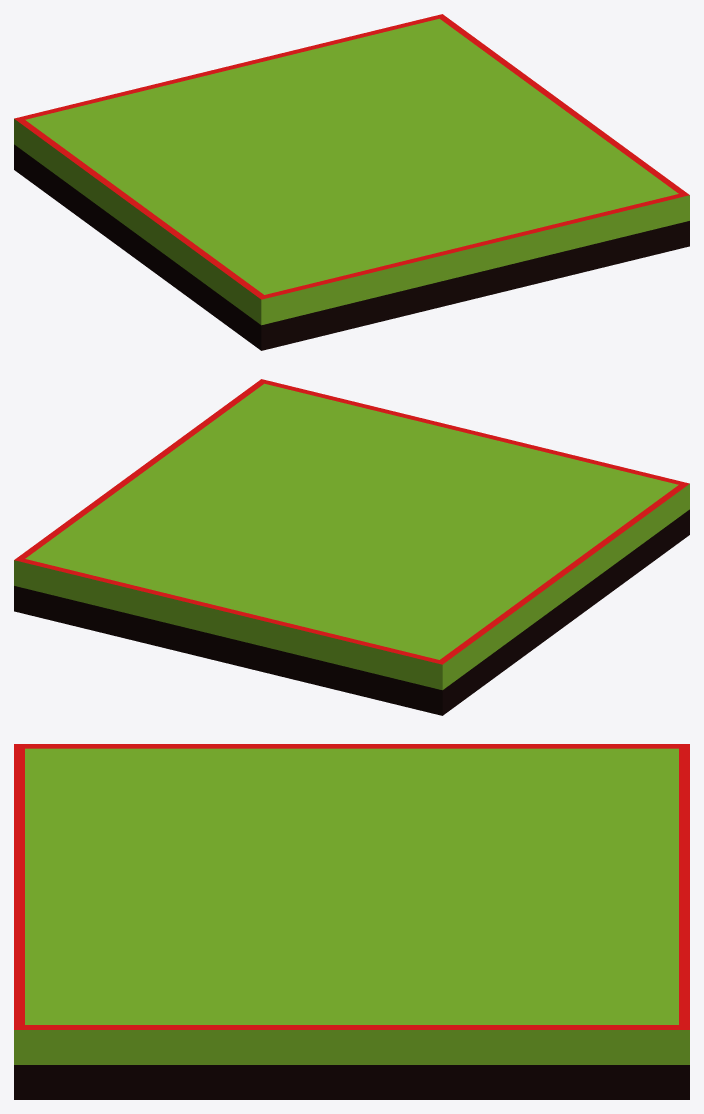
Rendered from Tile_0.FBX.
3 views of the same model, one above another, from view 1: azimuth 30°, elevation 25°; view 2: azimuth 150°, elevation 25°; view 3: azimuth 270°, elevation 25° (orthographic). The views are drawn at different scales.
Visible parts, largest first — view 1: Box002; view 2: Box002; view 3: Box002.
Boxes of the visible parts, x1=… form: Box002: x1=14, y1=14, x2=689, y2=350; Box002: x1=14, y1=379, x2=689, y2=715; Box002: x1=14, y1=744, x2=689, y2=1099.
Size of the model in its own units: 37.84 by 4.32 by 37.84.
